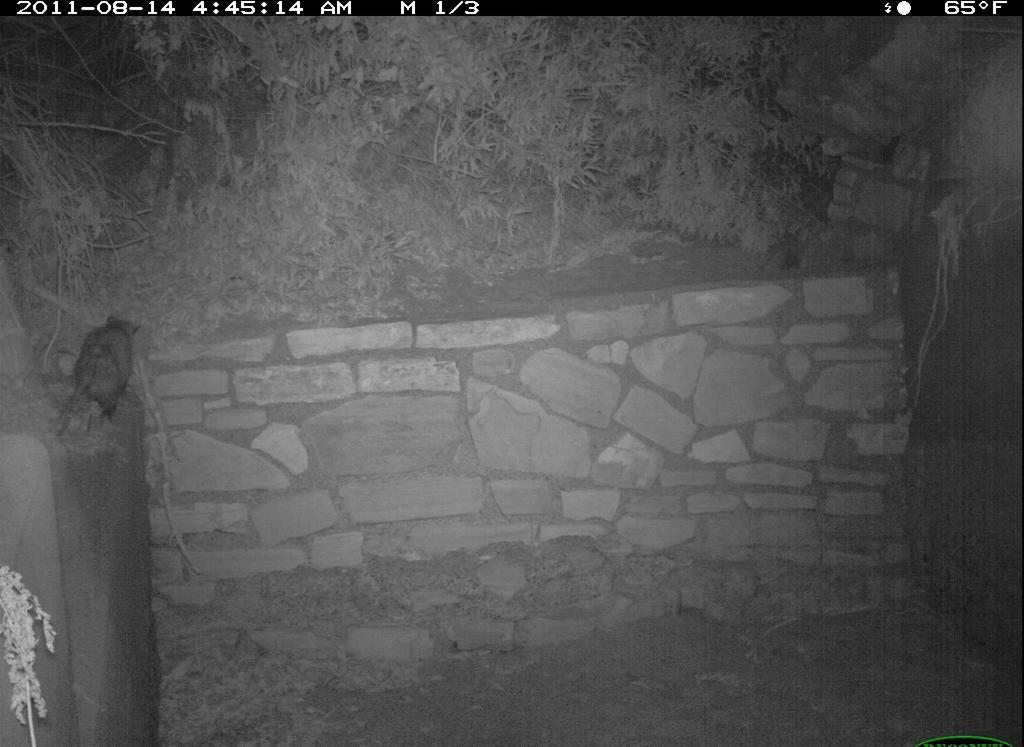opossum: (56, 305, 157, 447)
